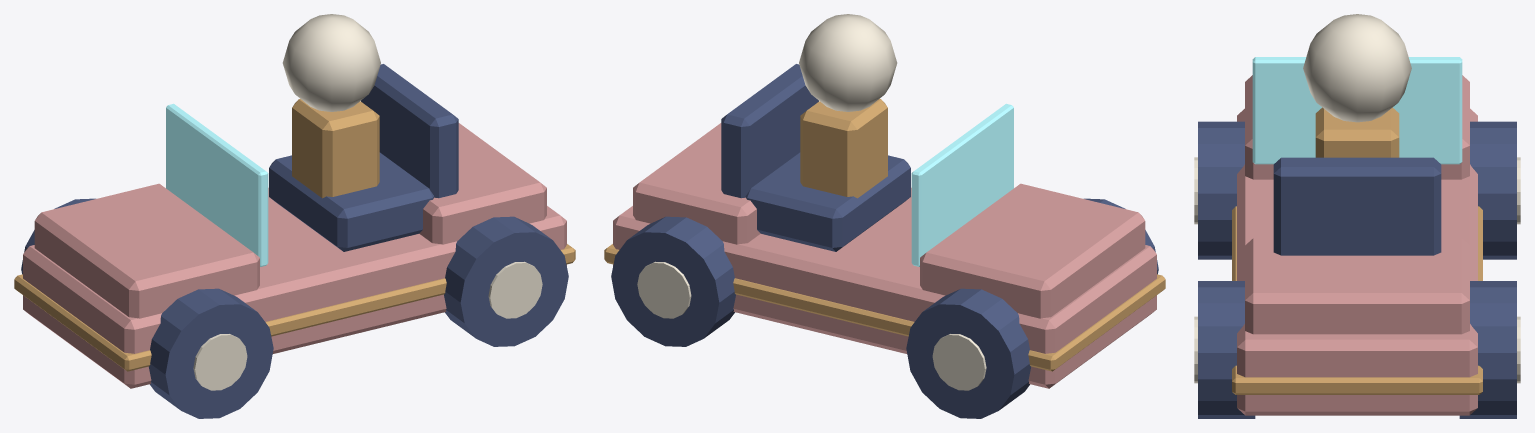
File: orb4_gag_roadster_left.glb
3 renders of one model, left to right at view 1: azimuth 30°, elevation 25°; view 2: azimuth 150°, elevation 25°; view 3: azimuth 270°, elevation 25°, orthographic. The views are drawn at different scales.
Parts seen in each view (by area): view 1: orb4_gag_roadster_left__orb3-rose-sugar, orb4_gag_roadster_left__orb3-indigo-glaze, orb4_gag_roadster_left__orb3-brushed-brass, orb4_gag_roadster_left__orb3-ivory-ceramic, orb4_gag_roadster_left__orb4-celadon-glass; view 2: orb4_gag_roadster_left__orb3-rose-sugar, orb4_gag_roadster_left__orb3-indigo-glaze, orb4_gag_roadster_left__orb3-brushed-brass, orb4_gag_roadster_left__orb3-ivory-ceramic, orb4_gag_roadster_left__orb4-celadon-glass; view 3: orb4_gag_roadster_left__orb3-rose-sugar, orb4_gag_roadster_left__orb3-indigo-glaze, orb4_gag_roadster_left__orb4-celadon-glass, orb4_gag_roadster_left__orb3-ivory-ceramic, orb4_gag_roadster_left__orb3-brushed-brass.
Part boxes in pixels (bbox=[...]): orb4_gag_roadster_left__orb3-rose-sugar: bbox=[23, 123, 566, 388]; orb4_gag_roadster_left__orb3-indigo-glaze: bbox=[21, 64, 568, 418]; orb4_gag_roadster_left__orb3-brushed-brass: bbox=[14, 99, 575, 371]; orb4_gag_roadster_left__orb3-ivory-ceramic: bbox=[193, 14, 542, 390]; orb4_gag_roadster_left__orb4-celadon-glass: bbox=[166, 103, 268, 266]; orb4_gag_roadster_left__orb3-rose-sugar: bbox=[613, 123, 1156, 388]; orb4_gag_roadster_left__orb3-indigo-glaze: bbox=[611, 64, 1158, 418]; orb4_gag_roadster_left__orb3-brushed-brass: bbox=[604, 99, 1165, 371]; orb4_gag_roadster_left__orb3-ivory-ceramic: bbox=[637, 14, 986, 390]; orb4_gag_roadster_left__orb4-celadon-glass: bbox=[911, 103, 1013, 266]; orb4_gag_roadster_left__orb3-rose-sugar: bbox=[1237, 75, 1477, 415]; orb4_gag_roadster_left__orb3-indigo-glaze: bbox=[1198, 121, 1516, 418]; orb4_gag_roadster_left__orb4-celadon-glass: bbox=[1252, 57, 1462, 164]; orb4_gag_roadster_left__orb3-ivory-ceramic: bbox=[1194, 14, 1520, 383]; orb4_gag_roadster_left__orb3-brushed-brass: bbox=[1232, 107, 1482, 394].
Bounding box in the file's own units: 5.5 × 3.52 × 3.12.
